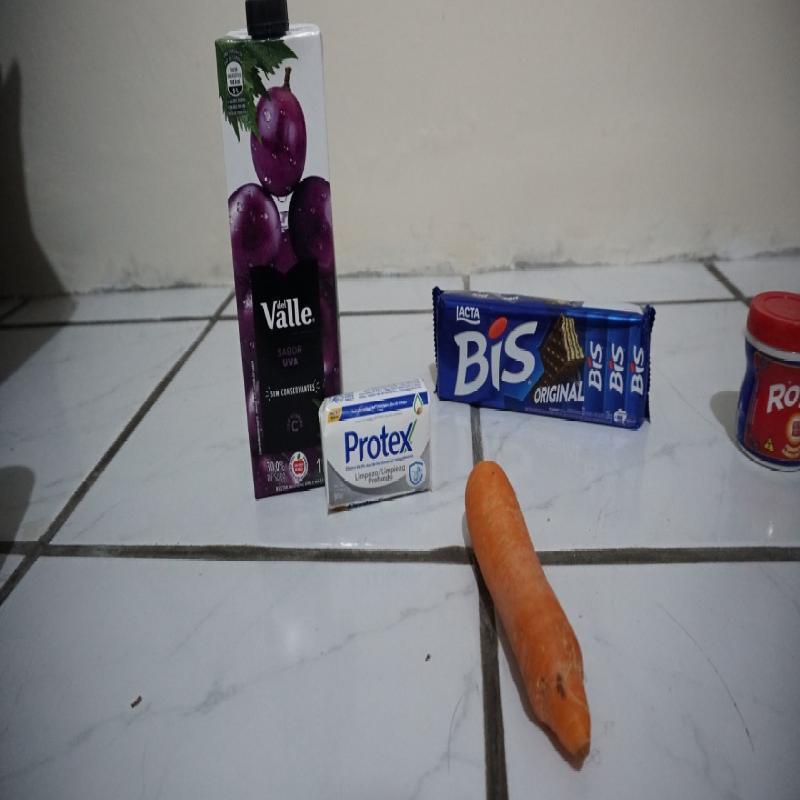Carrot: (463, 457, 590, 764)
Soap: (315, 381, 432, 506)
Yeast: (739, 288, 799, 472)
